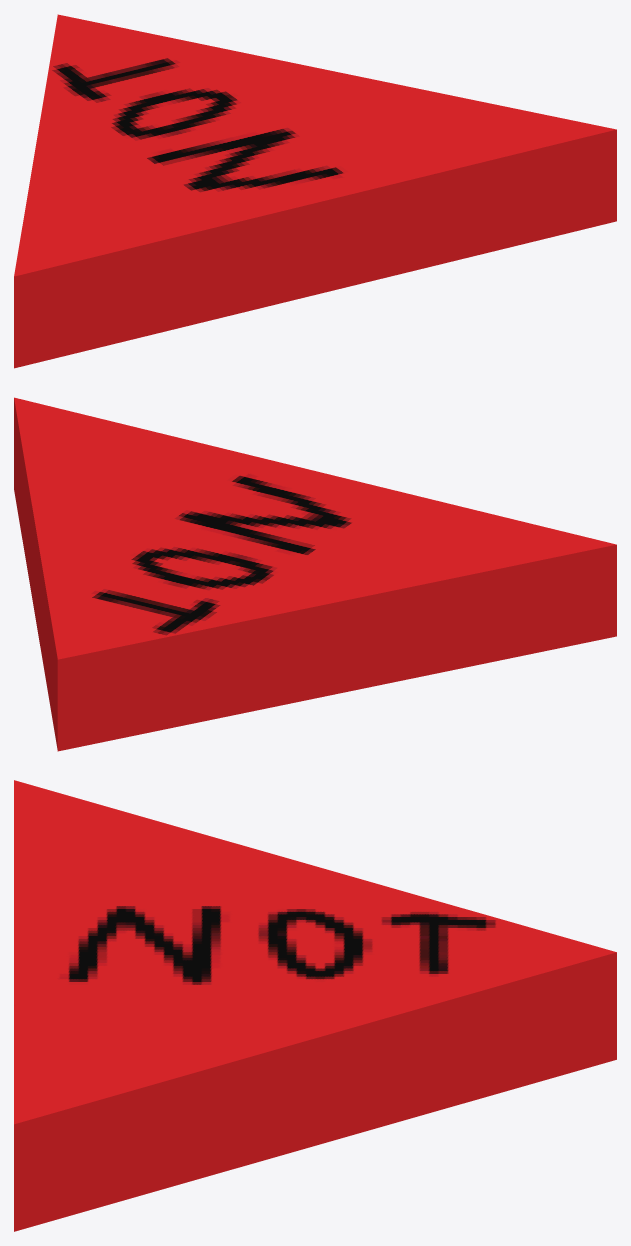
Rendered from Not Gate.fbx.
3 views of the same model, one above another, from view 1: azimuth 30°, elevation 25°; view 2: azimuth 150°, elevation 25°; view 3: azimuth 270°, elevation 25° (orthographic). The views are drawn at different scales.
Visible parts, largest first — view 1: node_id6; view 2: node_id6; view 3: node_id6.
Part boxes in pixels (x1,y1,x2,y2): node_id6: (14,14,616,368); node_id6: (14,397,616,751); node_id6: (14,780,616,1231).
Bounding box in the file's own units: 0.1115 × 0.0162 × 0.0825.
1 material, 1 textured.
